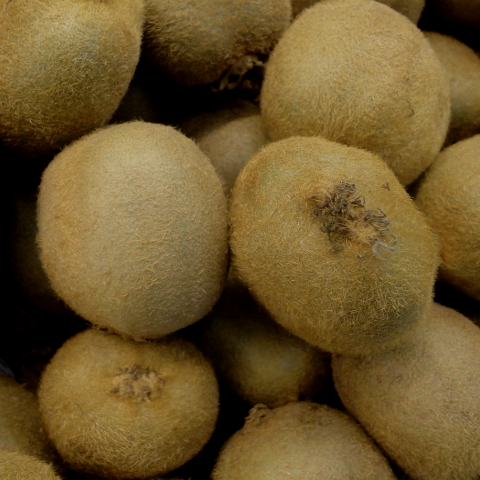kiwi: (14, 120, 253, 359), (216, 123, 444, 368), (253, 0, 458, 186), (32, 309, 222, 480)
